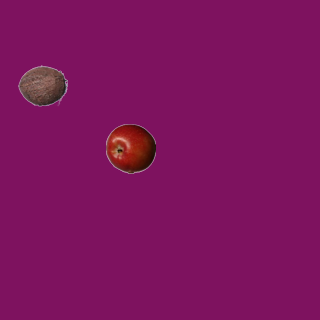Apple Braeburn: (105, 123, 155, 173)
Cocos: (17, 60, 67, 110)
